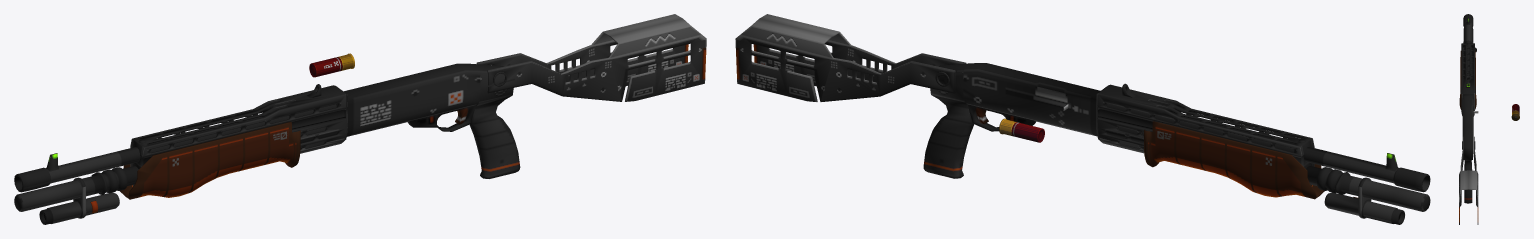
File: Shotgun Signalis.fbx
3 renders of one model, left to right at view 1: azimuth 30°, elevation 25°; view 2: azimuth 150°, elevation 25°; view 3: azimuth 270°, elevation 25°, orthographic. The views are drawn at different scales.
Visible parts, largest first — view 1: Spas12, Stock_Alt, ShotgunShell; view 2: Spas12, Stock_Alt, ShotgunShell; view 3: Spas12, Stock_Alt, ShotgunShell.
Boxes of the visible parts, x1,y1,x2,y2 form: Spas12: (14,63,520,224); Stock_Alt: (476,14,706,101); ShotgunShell: (309,53,354,77); Spas12: (923,63,1430,224); Stock_Alt: (735,14,966,101); ShotgunShell: (999,118,1044,142); Spas12: (1459,14,1478,203); Stock_Alt: (1459,136,1478,224); ShotgunShell: (1511,104,1519,120).
Size of the model in its own units: 0.9044 by 0.1691 by 0.1322.
Materials: 4 (4 with a texture image).
